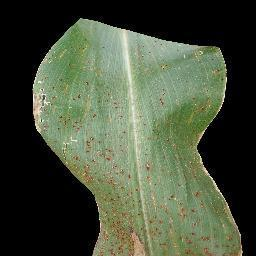Corn_Common_Rust: (20, 15, 256, 256)
